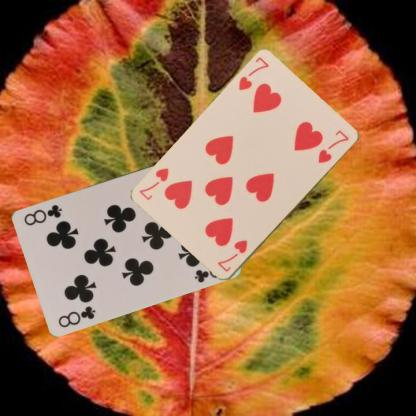7h: (236, 54, 270, 92), (215, 237, 249, 274)
8c: (56, 303, 97, 329)
